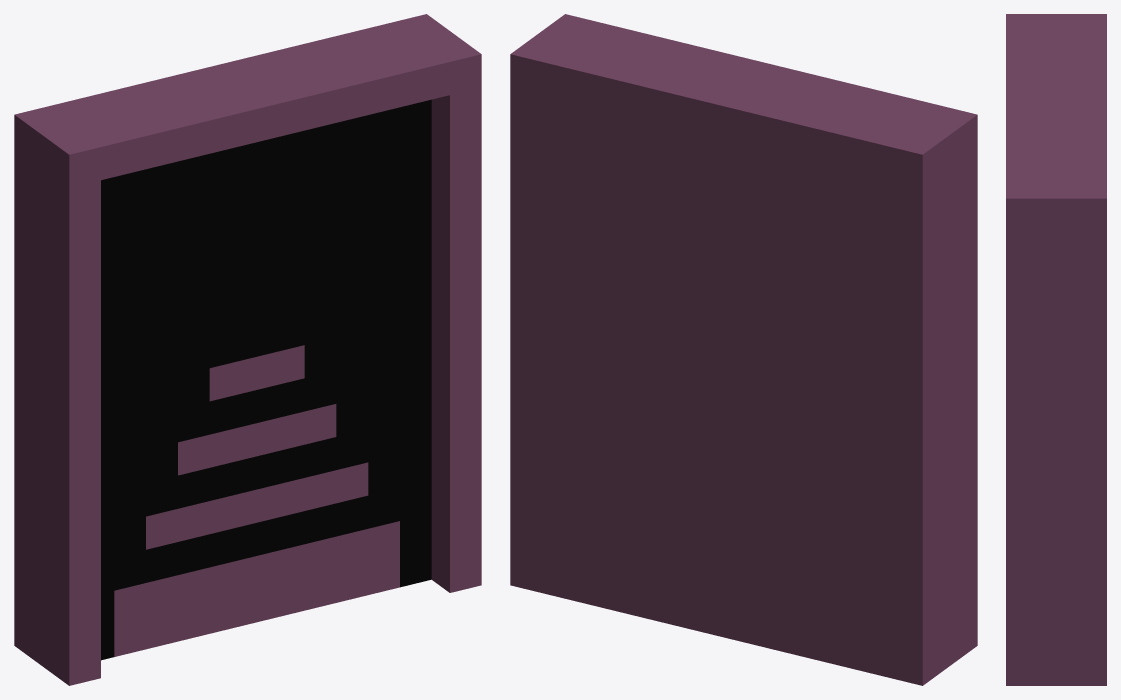
The model's file is dungeon_c_b_entrance_c.obj.
3 views of the same model, side by side, from view 1: azimuth 30°, elevation 25°; view 2: azimuth 150°, elevation 25°; view 3: azimuth 270°, elevation 25° (orthographic). The views are drawn at different scales.
Size of the model in its own units: 1.3 by 1.6 by 0.3.
Materials: 1 (1 with a texture image).
